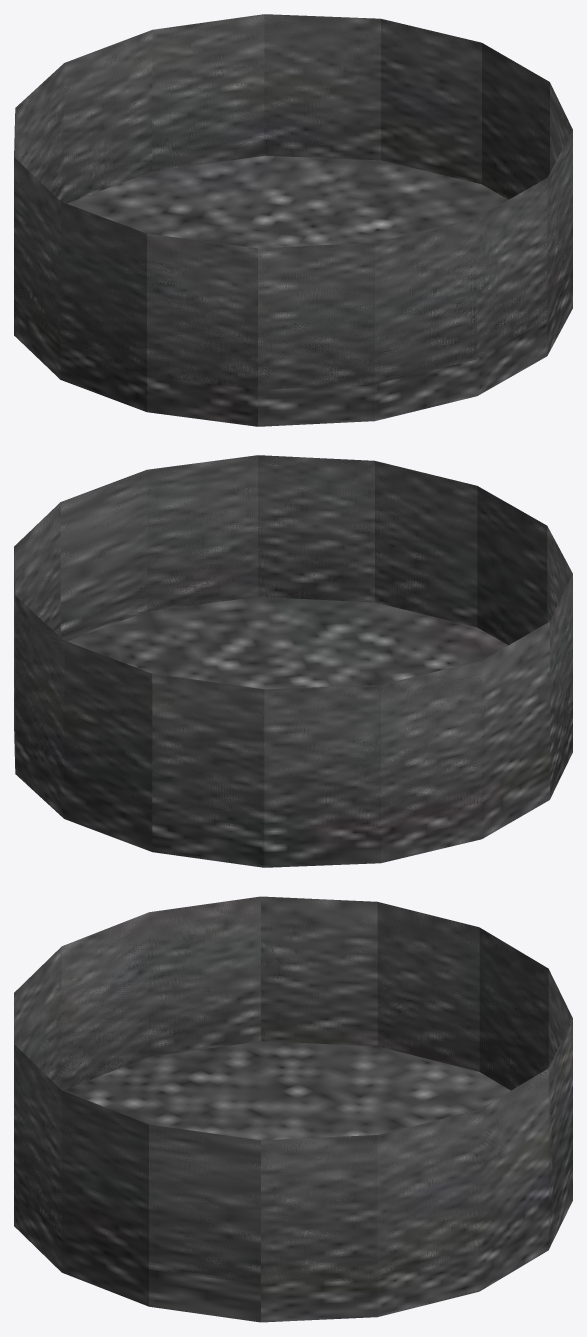
File: ash container.fbx
3 renders of one model, top to bottom at view 1: azimuth 30°, elevation 25°; view 2: azimuth 150°, elevation 25°; view 3: azimuth 270°, elevation 25°, orthographic. The views are drawn at different scales.
Parts seen in each view (by area): view 1: ash container; view 2: ash container; view 3: ash container.
Part boxes in pixels (x1,y1,x2,y2): ash container: (14, 14, 572, 426); ash container: (14, 455, 572, 867); ash container: (14, 896, 572, 1322).
Bounding box in the file's own units: 272 × 94.73 × 263.
